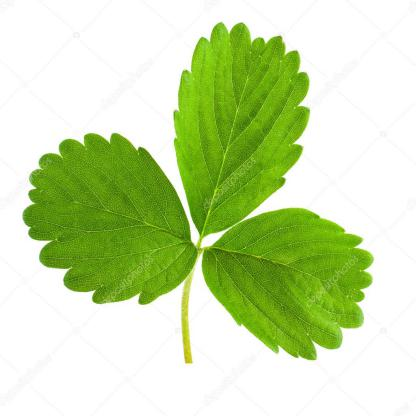Strawberry leaf: (10, 123, 195, 314), (175, 16, 313, 241), (203, 205, 379, 376)
